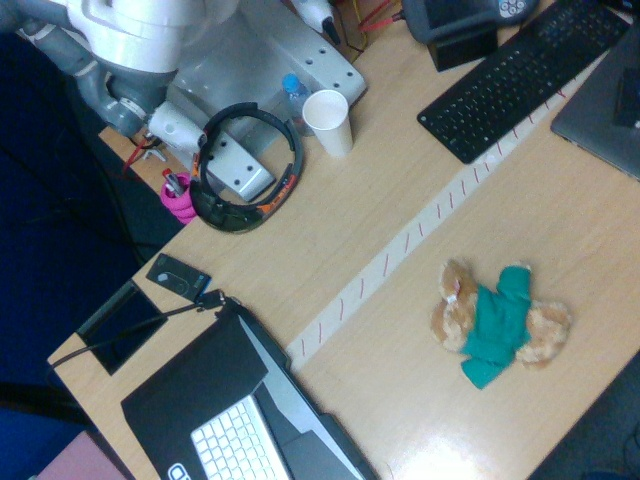teddy: (430, 258, 573, 388)
